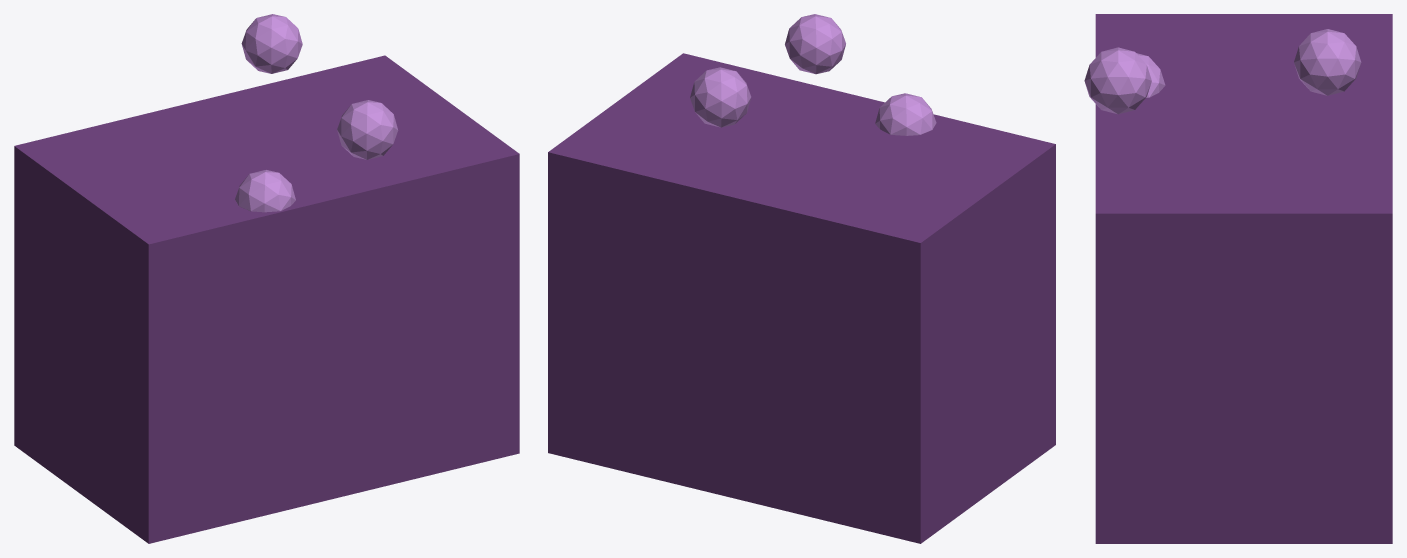
Rendered from eclipse_wraith.glb.
The picture shows the model from 3 angles, left to right: view 1: azimuth 30°, elevation 25°; view 2: azimuth 150°, elevation 25°; view 3: azimuth 270°, elevation 25°; orthographic projection. The views are drawn at different scales.
Parts seen in each view (by area): view 1: geometry_0; view 2: geometry_0; view 3: geometry_0.
Part boxes in pixels (box(x1,y1,x2,y2)): geometry_0: box(14, 14, 519, 543); geometry_0: box(548, 14, 1055, 543); geometry_0: box(1084, 14, 1392, 543).
Bounding box in the file's own units: 0.7 × 0.712 × 0.4565.
